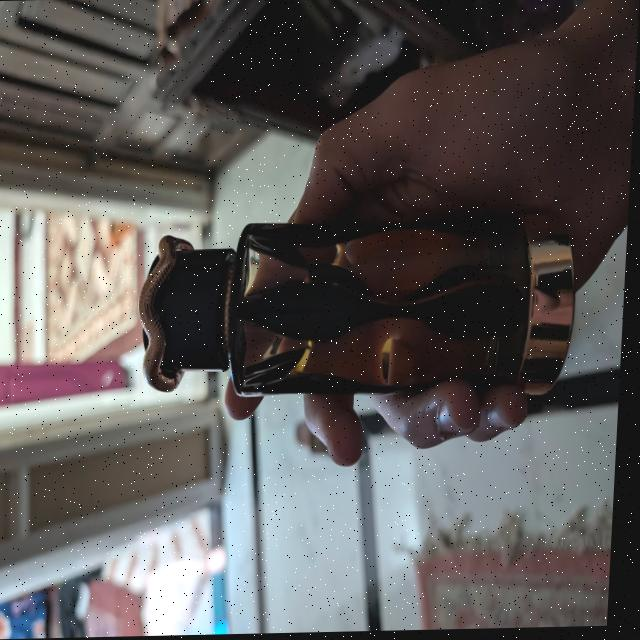Teriaq-Intense: (136, 212, 582, 406)
